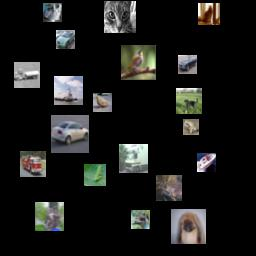automobile: (51, 115, 89, 153), (178, 55, 197, 74), (56, 30, 75, 49)
bird: (121, 45, 156, 80), (35, 202, 64, 231), (131, 210, 150, 229), (93, 93, 112, 112)
cat: (104, 1, 136, 33), (198, 3, 220, 25), (43, 3, 62, 22)
dog: (171, 209, 206, 244), (176, 88, 202, 114)
frog: (156, 175, 182, 201), (84, 164, 106, 186), (183, 119, 199, 135)
ship: (54, 76, 83, 105), (197, 153, 216, 172)
truck: (119, 144, 148, 173), (20, 151, 46, 177), (14, 62, 40, 88)
